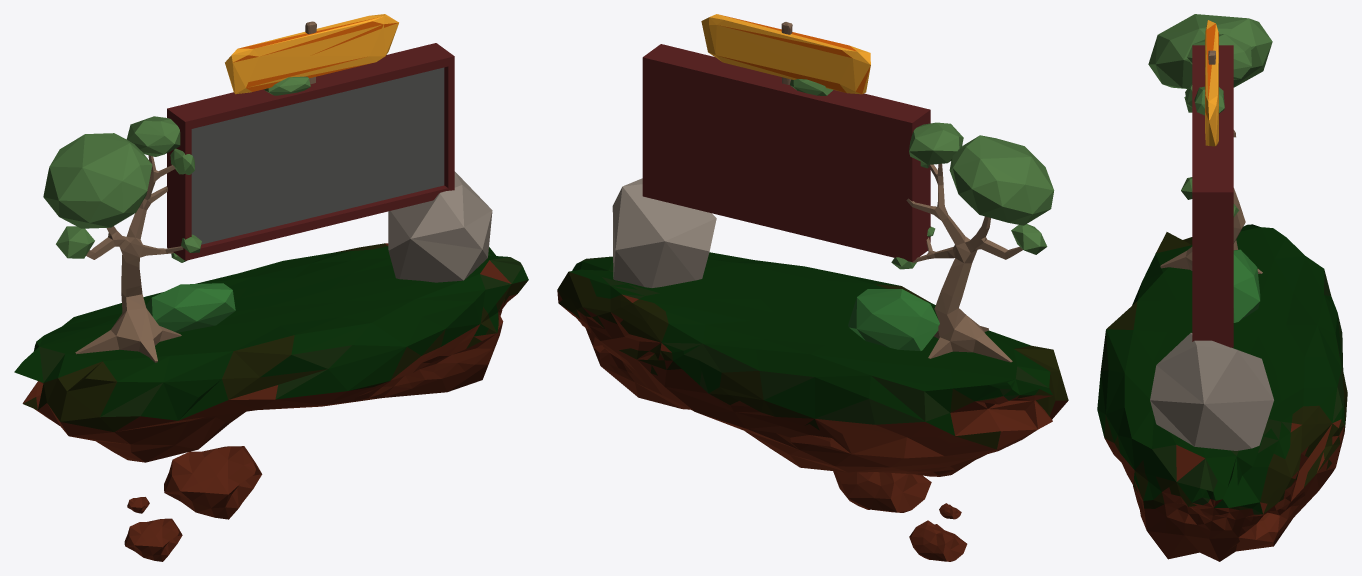
File: cartel.fbx
3 renders of one model, left to right at view 1: azimuth 30°, elevation 25°; view 2: azimuth 150°, elevation 25°; view 3: azimuth 270°, elevation 25°, orthographic. The views are drawn at different scales.
Parts seen in each view (by area): view 1: isla, pantalla, arbol, roca, cartel, arbusto1; view 2: isla, pantalla, arbol, roca, cartel, arbusto1; view 3: isla, roca, pantalla, arbol, cartel, arbusto1, arbusto.
Part boxes in pixels (<box>): isla: <box>14,243,528,561</box>; pantalla: <box>167,43,454,260</box>; arbol: <box>43,116,201,362</box>; roca: <box>388,171,492,282</box>; cartel: <box>225,14,398,94</box>; arbusto1: <box>146,283,235,332</box>; isla: <box>557,252,1068,561</box>; pantalla: <box>642,44,930,261</box>; arbol: <box>891,122,1054,362</box>; roca: <box>612,178,716,287</box>; cartel: <box>701,14,870,94</box>; arbusto1: <box>848,289,939,351</box>; isla: <box>1097,224,1347,561</box>; roca: <box>1150,333,1273,450</box>; pantalla: <box>1192,45,1233,347</box>; arbol: <box>1148,14,1272,273</box>; cartel: <box>1205,20,1218,146</box>; arbusto1: <box>1233,249,1260,322</box>; arbusto: <box>1194,86,1224,115</box>.
Size of the model in its own units: 1494 by 1436 by 585.
